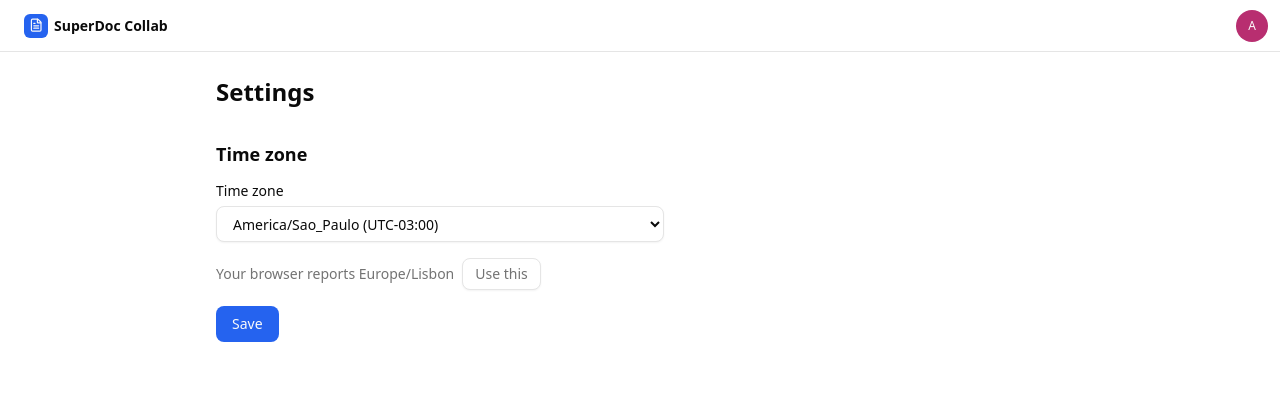
Scenario: clears the inline error when the selection changes
Select "Asia/Tokyo (UTC+09:00)" in the dropdown labelled "Time zone" at (440, 224), box top-left (216, 206), bottom-right (664, 242)
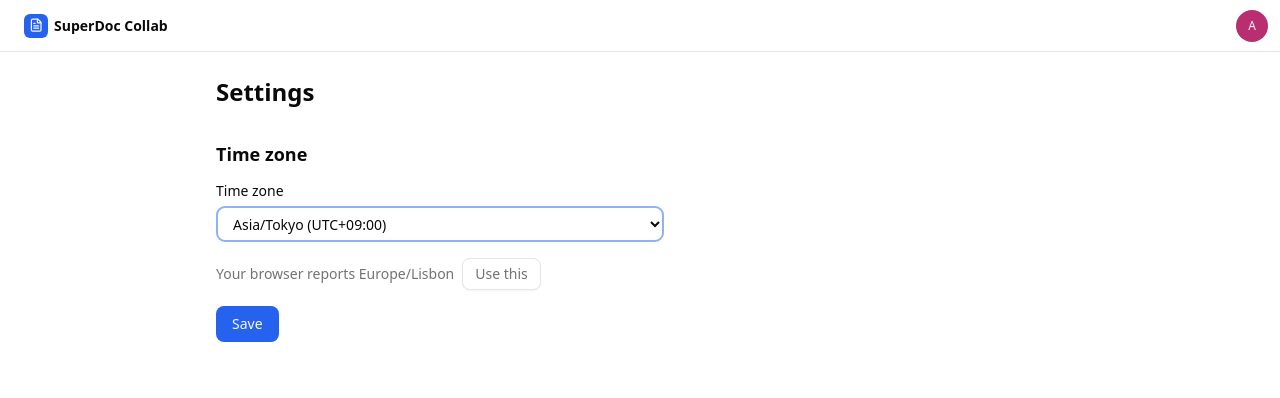
Click the button "Save" at (247, 324), box top-left (216, 306), bottom-right (279, 342)
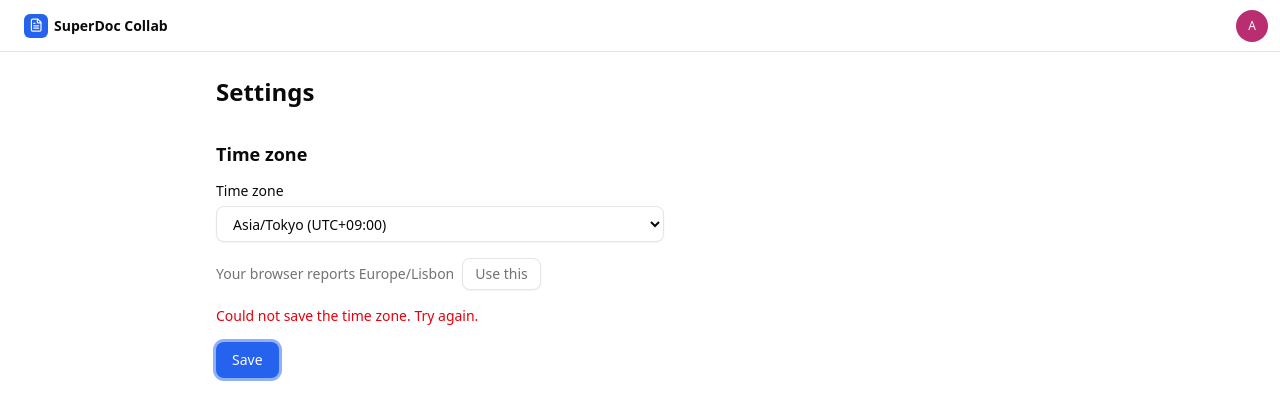
Now the message "Could not save the time zone. Try again." is shown, box top-left (216, 306), bottom-right (478, 325)
Select "America/Sao_Paulo (UTC-03:00)" in the dropdown labelled "Time zone" at (440, 224), box top-left (216, 206), bottom-right (664, 242)
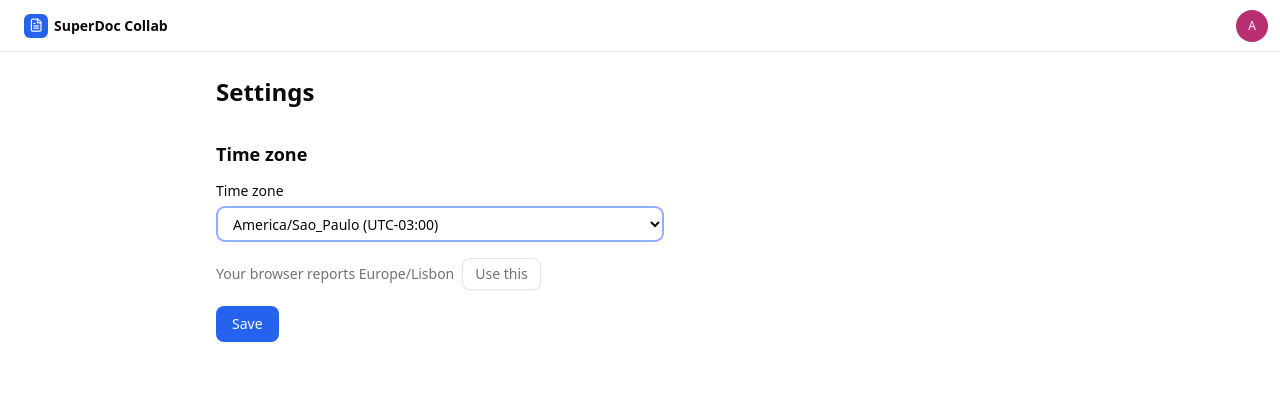
Now the message "Could not save the time zone. Try again." is gone
